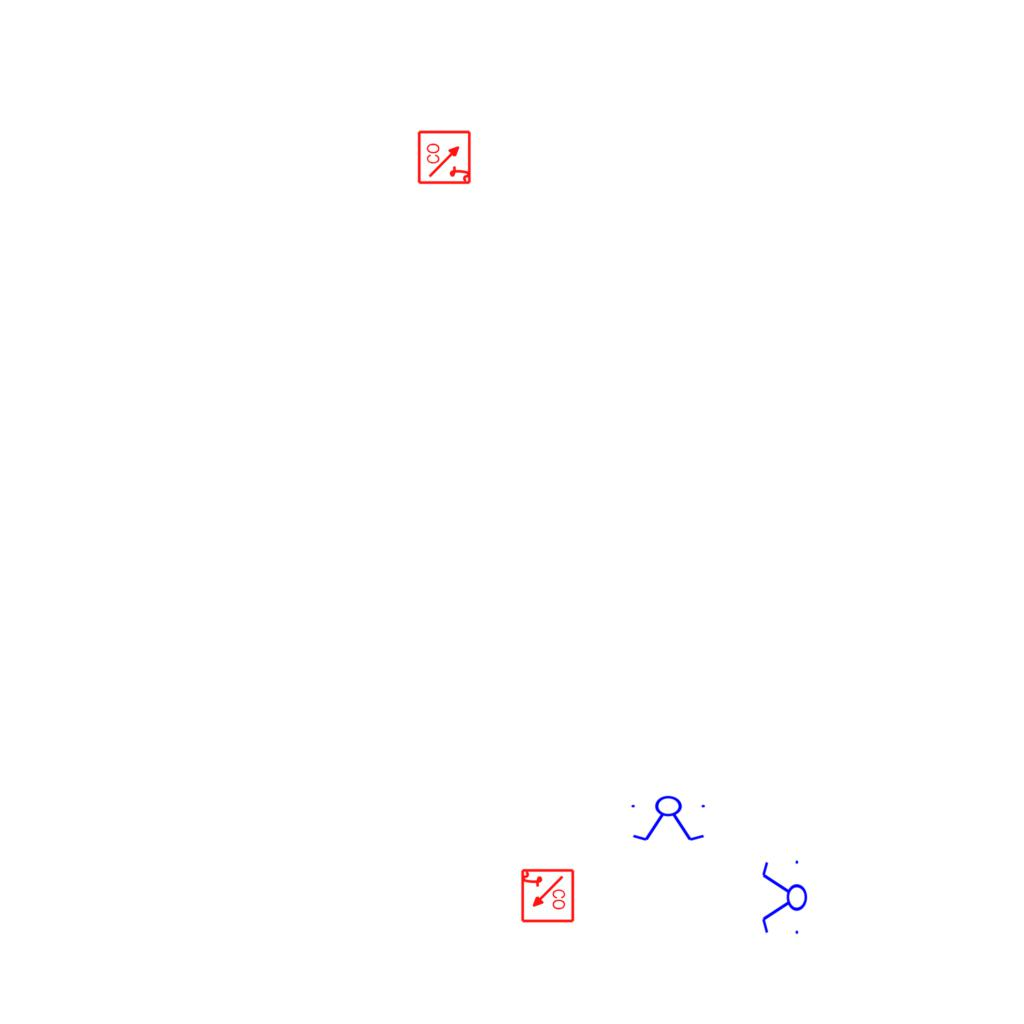ROA_Rauchmelder_optisch_mit_Signalgeber_(Sockelsirene): (519, 868, 575, 924), (417, 129, 473, 185)
Serienschalter: (760, 856, 808, 940), (627, 795, 711, 843)
